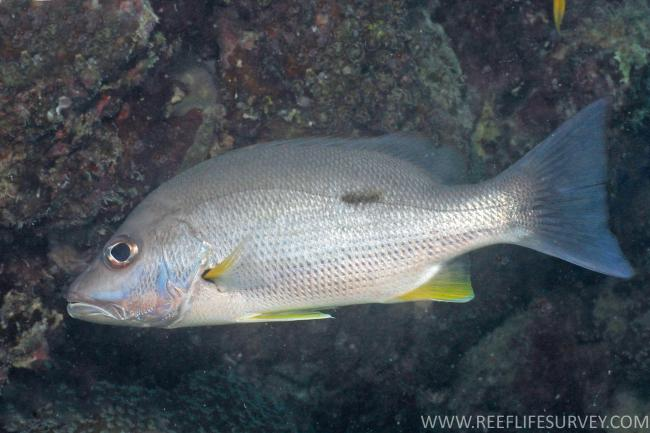fish: (67, 97, 637, 329)
